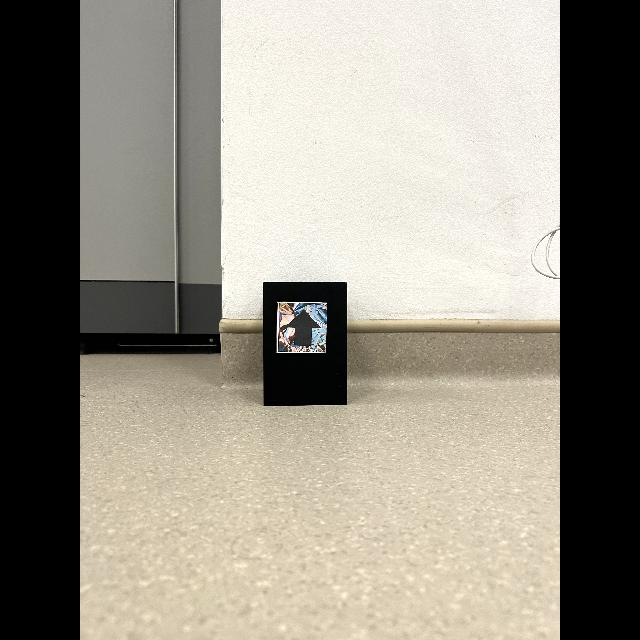UP: (286, 310, 322, 346)
